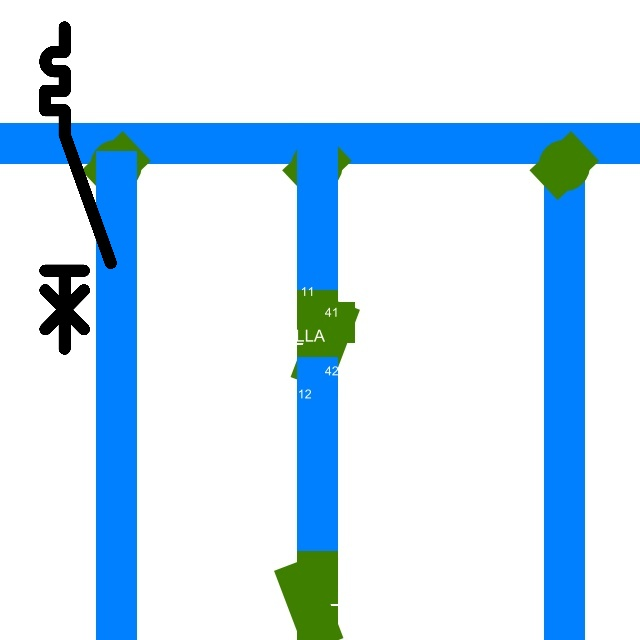interruptor_termomagnetico: (37, 19, 119, 356)
